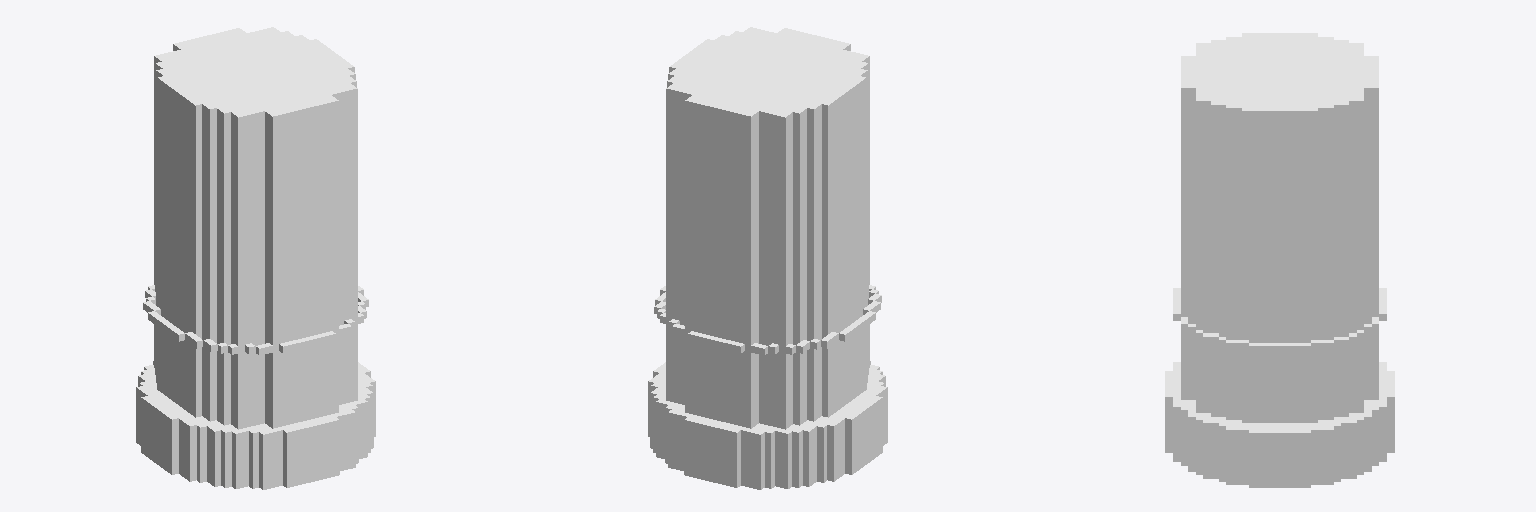
The model's file is tower1.obj.
3 views of the same model, side by side, from view 1: azimuth 30°, elevation 25°; view 2: azimuth 150°, elevation 25°; view 3: azimuth 270°, elevation 25° (orthographic).
Parts seen in each view (by area): view 1: object 1; view 2: object 1; view 3: object 1.
Boxes of the visible parts, x1=… form: object 1: x1=136, y1=27, x2=375, y2=489; object 1: x1=648, y1=27, x2=887, y2=489; object 1: x1=1165, y1=33, x2=1394, y2=487.
Bounding box in the file's own units: 3 × 5.3 × 3.